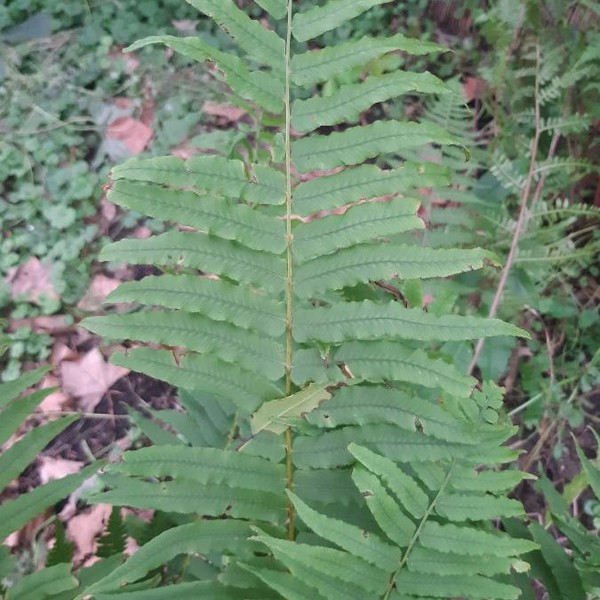obstacle: (116, 22, 479, 575), (297, 370, 509, 592)
